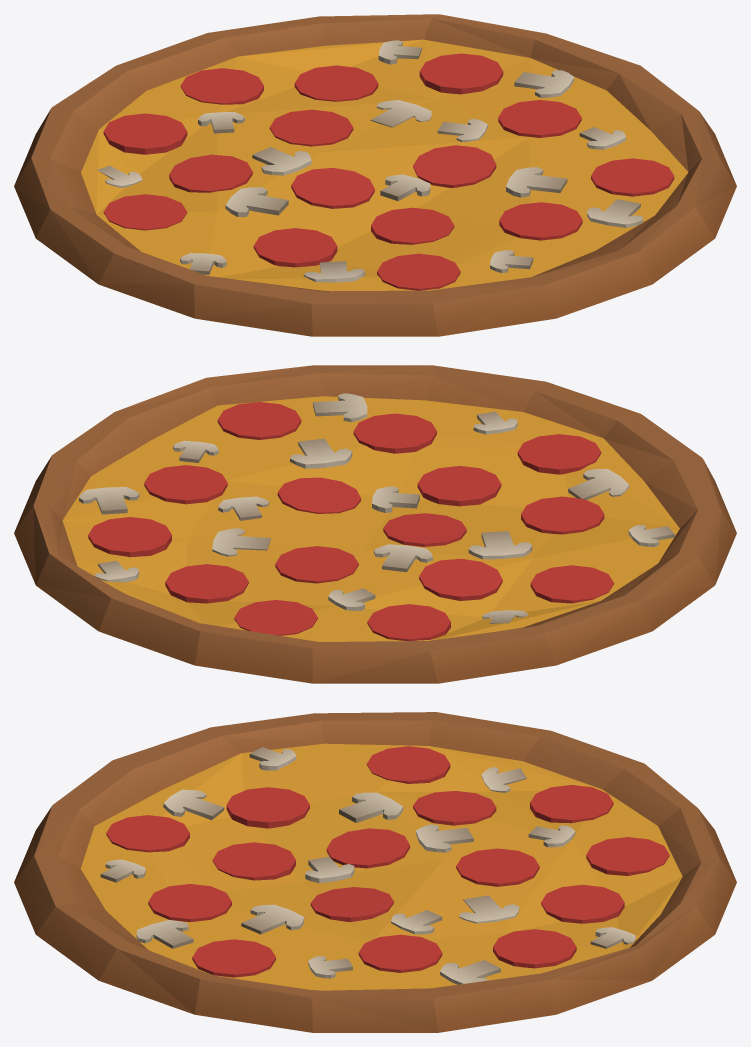
Rendered from SM_Food_Pizza_04.fbx.
3 views of the same model, one above another, from view 1: azimuth 30°, elevation 25°; view 2: azimuth 150°, elevation 25°; view 3: azimuth 270°, elevation 25° (orthographic).
Visible parts, largest first — view 1: SM_Food_Pizza_04; view 2: SM_Food_Pizza_04; view 3: SM_Food_Pizza_04.
Boxes of the visible parts, x1=… form: SM_Food_Pizza_04: x1=14, y1=14, x2=736, y2=336; SM_Food_Pizza_04: x1=14, y1=365, x2=736, y2=683; SM_Food_Pizza_04: x1=14, y1=712, x2=736, y2=1032.
Size of the model in its own units: 0.3028 by 0.0134 by 0.3074.
